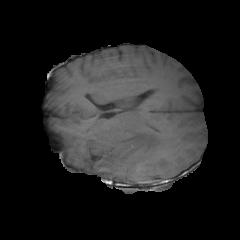glioma: (96, 117, 185, 176)
